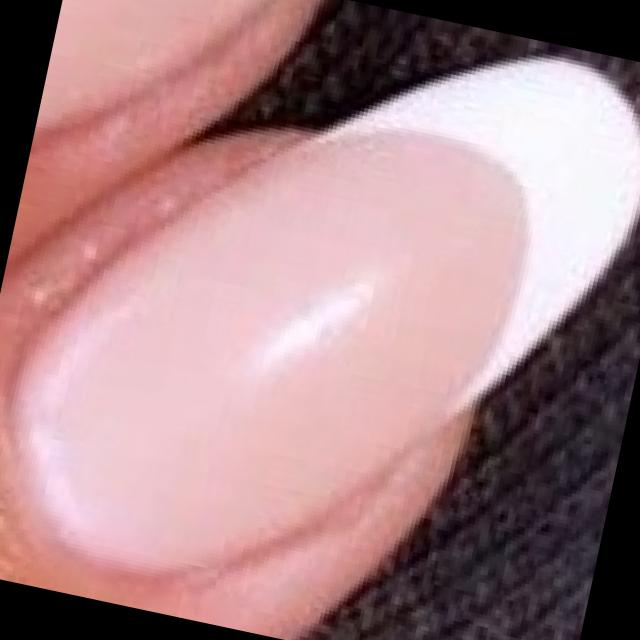Nail: (0, 52, 640, 575)
